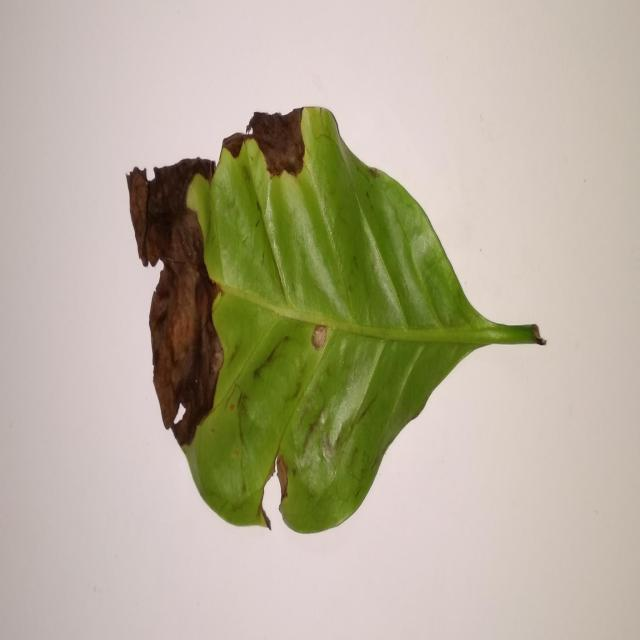Enfermedad-Antracnosis: (125, 107, 546, 538)
